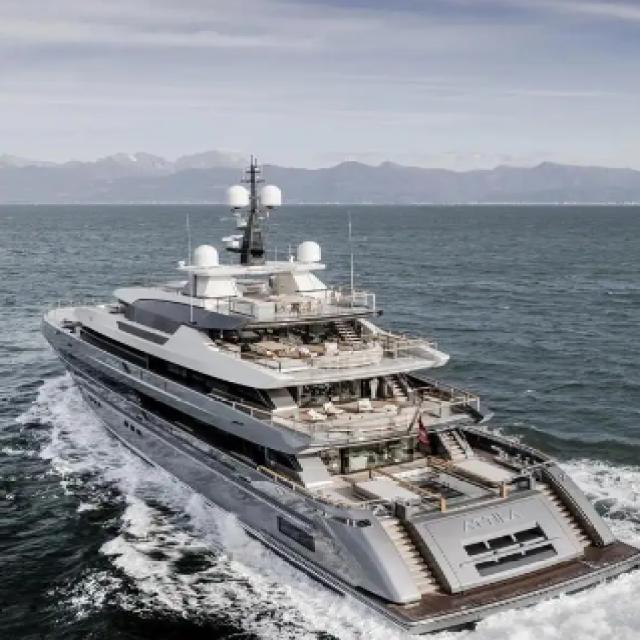houseboat: (32, 188, 632, 627)
